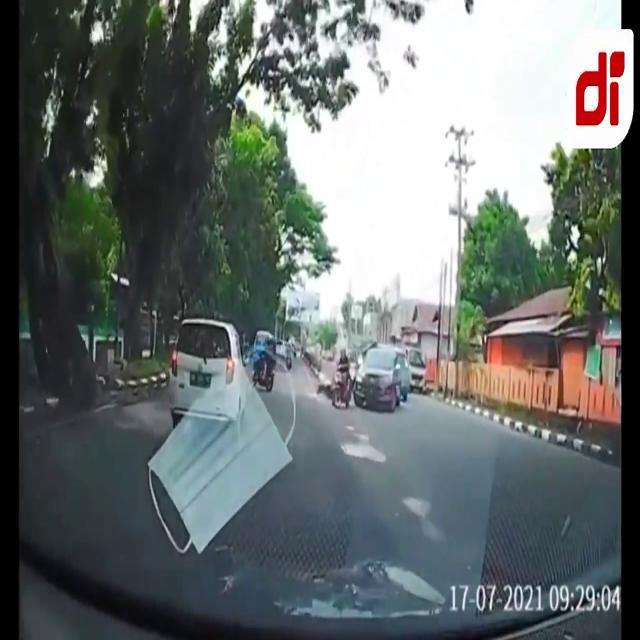normal: (160, 295, 290, 445), (296, 310, 430, 425)
